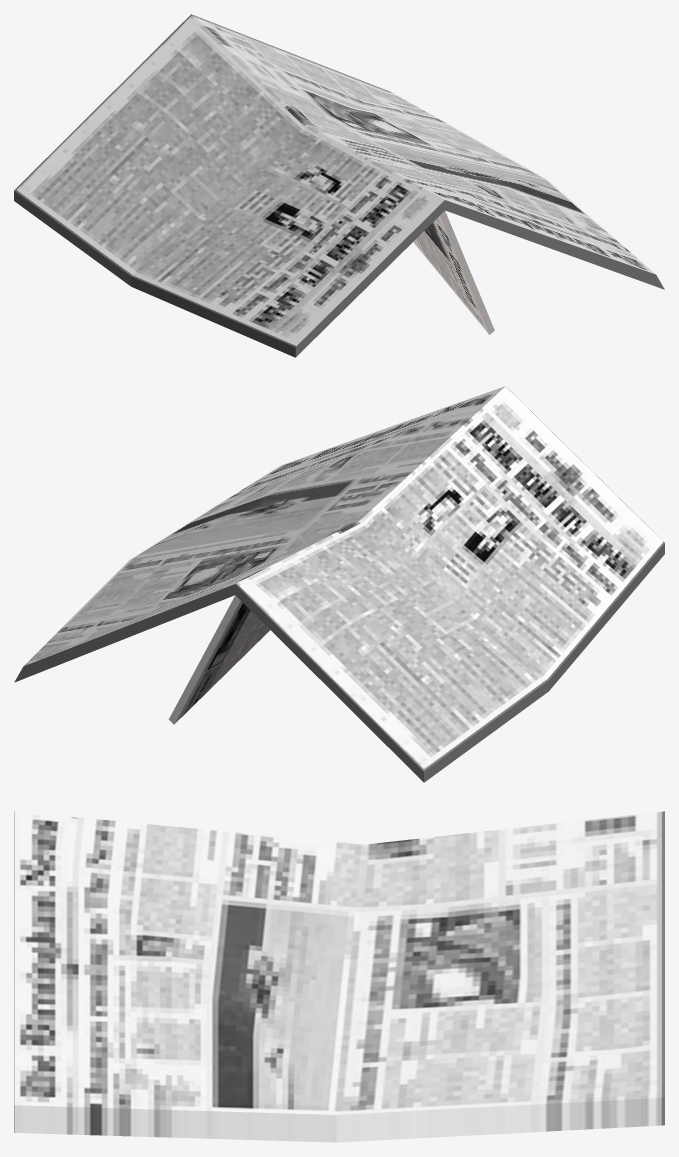
Rendered from newspaper 2.fbx.
The picture shows the model from 3 angles, top to bottom: view 1: azimuth 30°, elevation 25°; view 2: azimuth 150°, elevation 25°; view 3: azimuth 270°, elevation 25°; orthographic projection. The views are drawn at different scales.
Parts seen in each view (by area): view 1: newspaper; view 2: newspaper; view 3: newspaper.
Boxes of the visible parts, bbox=[...] form: newspaper: bbox=[14, 14, 664, 357]; newspaper: bbox=[14, 386, 664, 782]; newspaper: bbox=[14, 811, 664, 1142].
Bounding box in the file's own units: 16.64 × 5.64 × 17.74.
